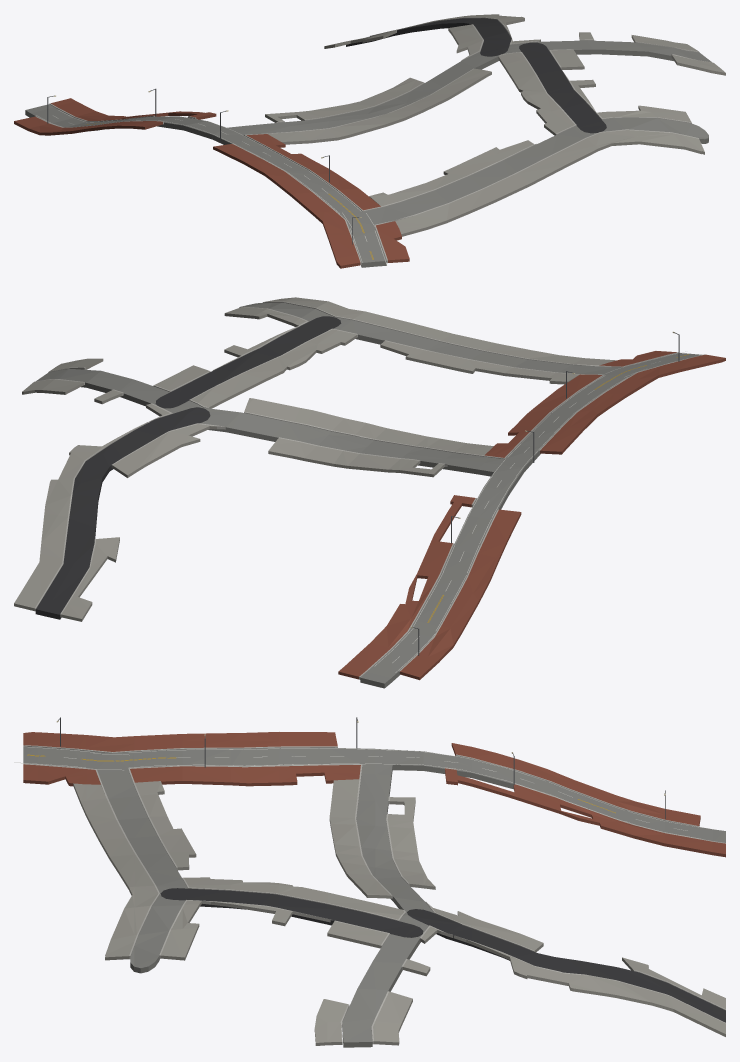
The picture shows the model from 3 angles, top to bottom: view 1: azimuth 30°, elevation 25°; view 2: azimuth 150°, elevation 25°; view 3: azimuth 270°, elevation 25°; orthographic projection. The views are drawn at different scales.
Size of the model in its own units: 138 by 32.69 by 148.
